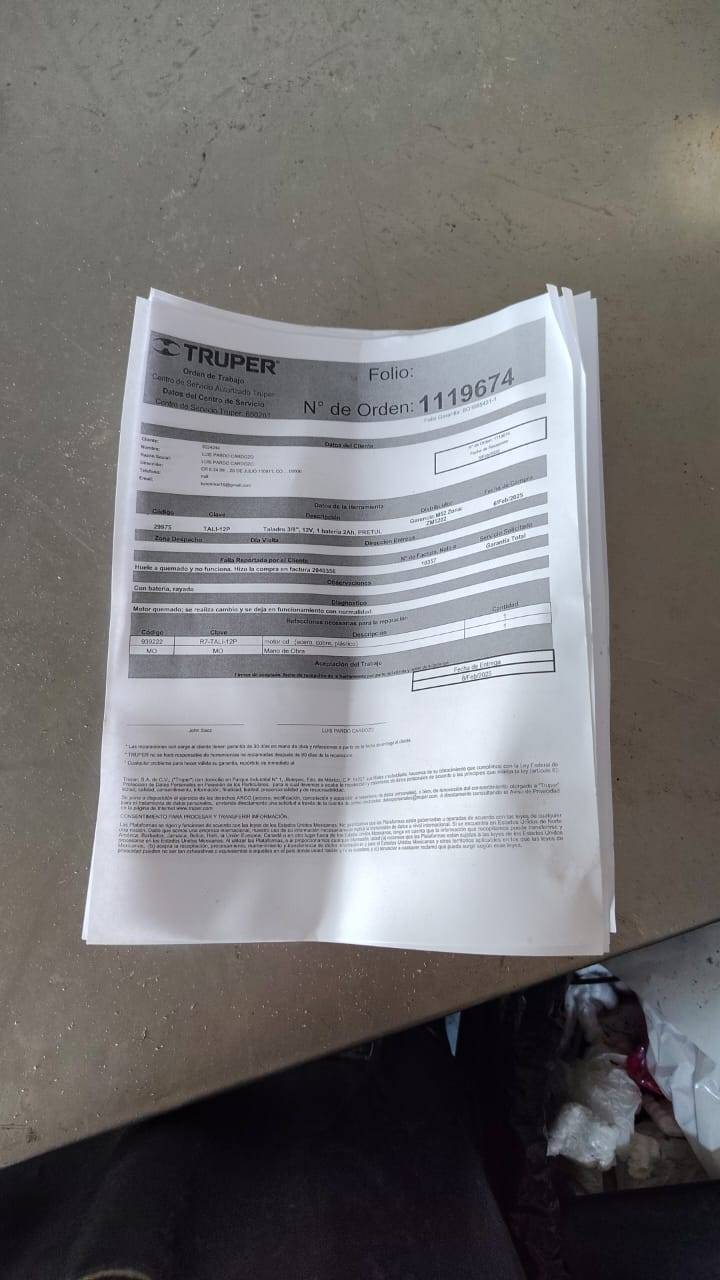Papel: (80, 282, 619, 953)
